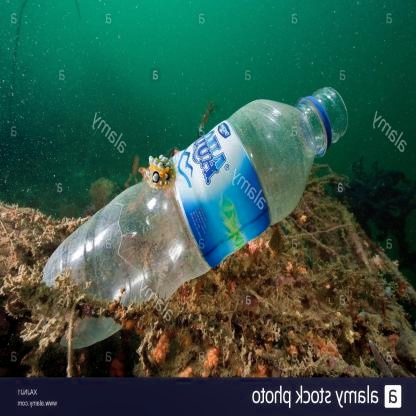pbottle: (34, 83, 353, 350)
